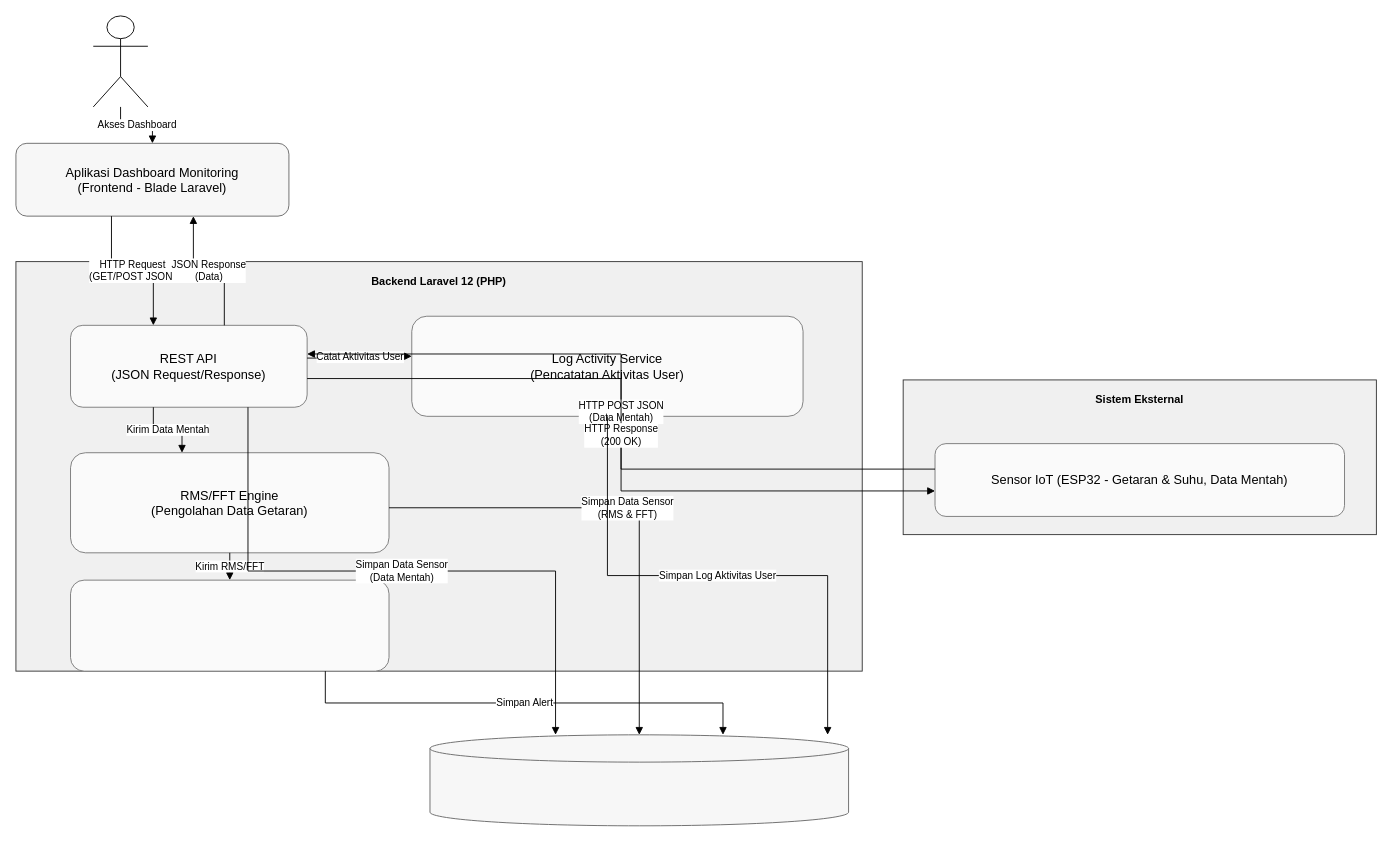
The diagram is 1392 pixels wide and 842 high, and some of its shapes have lost their labels. The centre of each missing label's shape, as x and y in pixels:
Admin / Teknisi: point 120,61
Alert Processor (Evaluasi Threshold & Generate Alert): point 229,625
Database Internal (MySQL) (User, Sensor, RMS/FFT, Alert, Log): point 639,780
